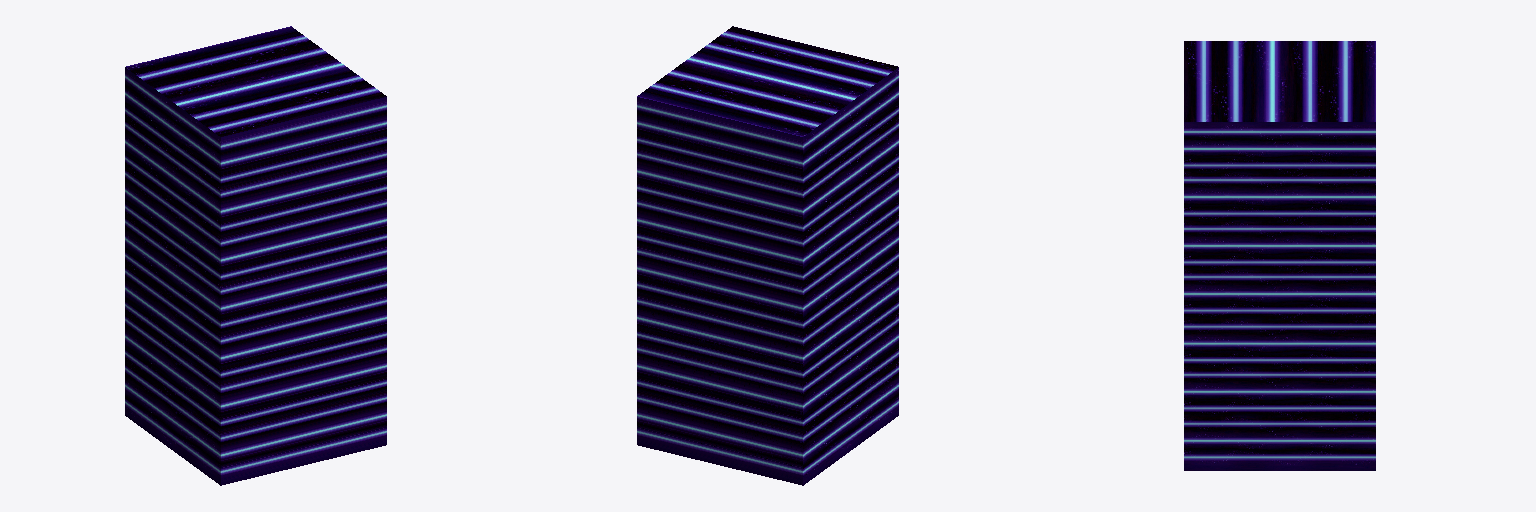
3 views of the same model, side by side, from view 1: azimuth 30°, elevation 25°; view 2: azimuth 150°, elevation 25°; view 3: azimuth 270°, elevation 25° (orthographic).
Parts seen in each view (by area): view 1: pCube1; view 2: pCube1; view 3: pCube1.
Part boxes in pixels (x1,y1,x2,y2): pCube1: (125, 26, 386, 485); pCube1: (637, 26, 898, 485); pCube1: (1184, 41, 1375, 470).
Size of the model in its own units: 1 by 2 by 1.
Materials: 1 (1 with a texture image).